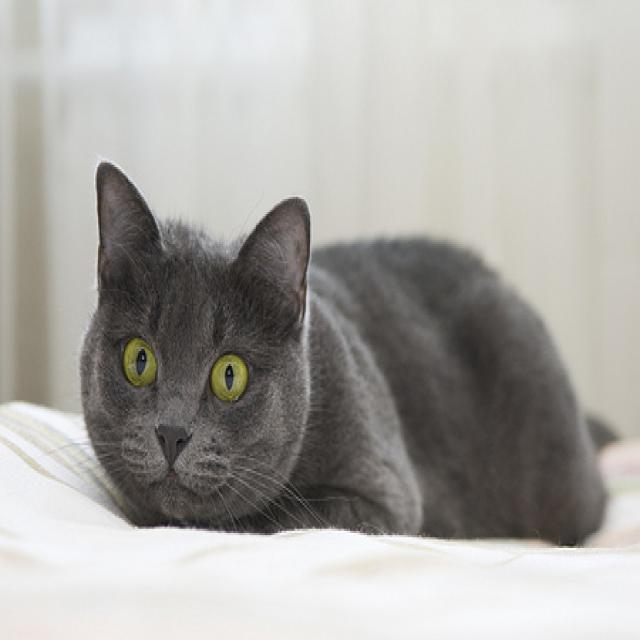Russian Blue: (78, 158, 624, 556)
